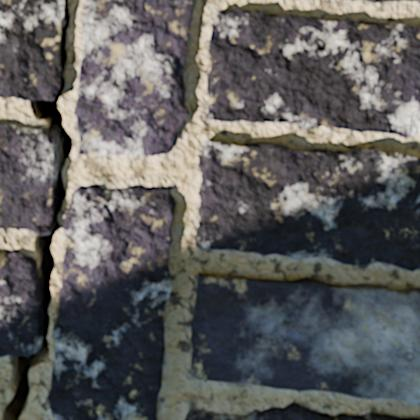brick: (191, 274, 419, 404), (48, 185, 174, 419), (196, 141, 419, 270), (207, 9, 419, 137), (74, 0, 192, 155), (0, 124, 57, 234), (0, 0, 63, 99), (0, 251, 39, 356), (186, 403, 419, 419), (367, 0, 401, 2)
crack: (1, 0, 73, 419)
